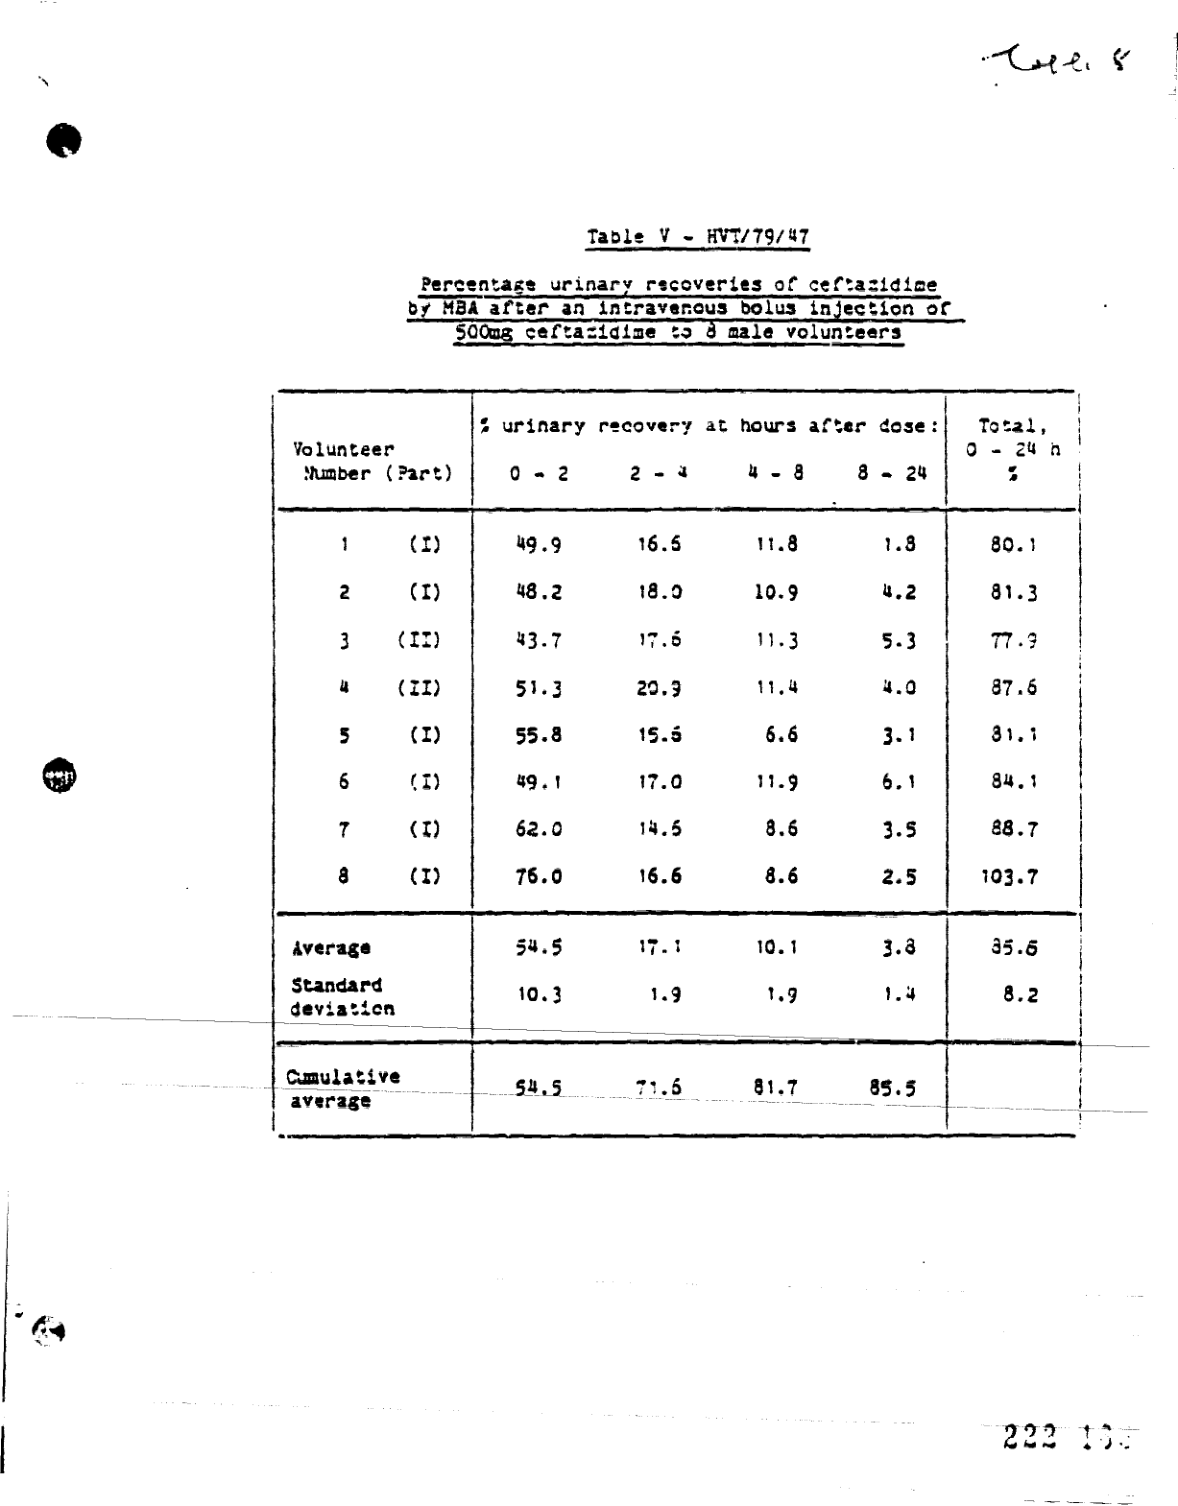partial_lined_merged_cells: (269, 385, 1086, 1142)
